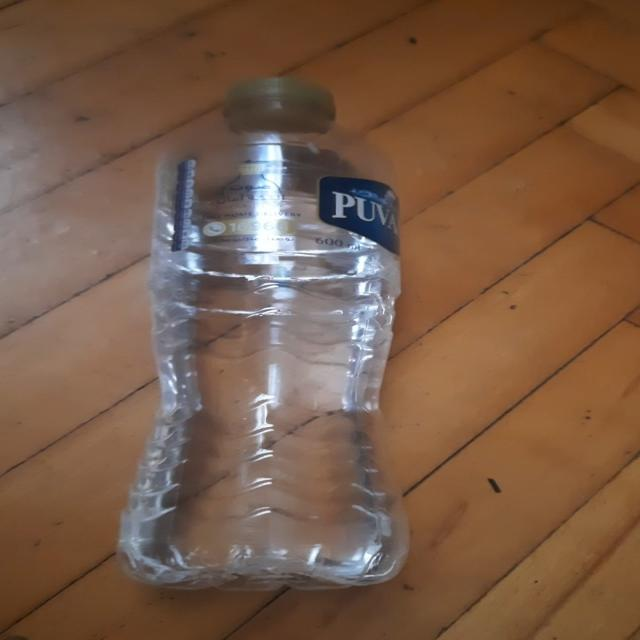Plastic: (116, 76, 410, 594)
